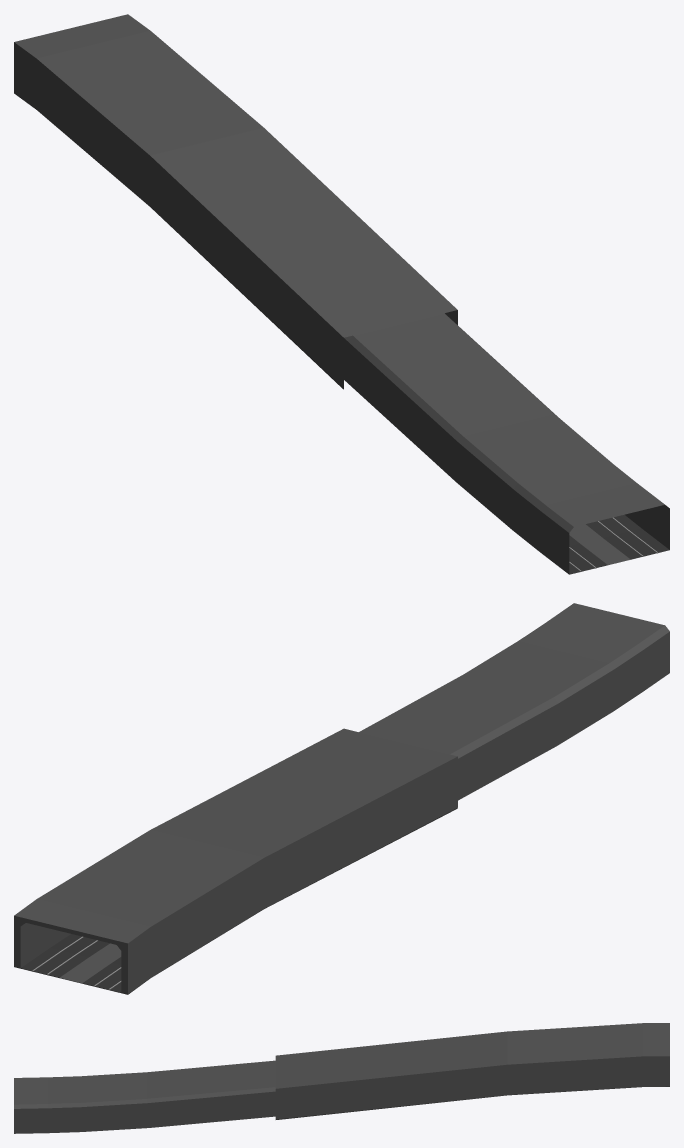
File: SM_Floor_Metro_10.fbx
The picture shows the model from 3 angles, top to bottom: view 1: azimuth 30°, elevation 25°; view 2: azimuth 150°, elevation 25°; view 3: azimuth 270°, elevation 25°; orthographic projection. The views are drawn at different scales.
Visible parts, largest first — view 1: SM_Floor_Metro_10; view 2: SM_Floor_Metro_10; view 3: SM_Floor_Metro_10.
Boxes of the visible parts, box(x1,y1,x2,y2) form: SM_Floor_Metro_10: box(14, 14, 669, 574); SM_Floor_Metro_10: box(14, 603, 669, 994); SM_Floor_Metro_10: box(14, 1023, 669, 1133).
Size of the model in its own units: 12 by 13.41 by 100.
